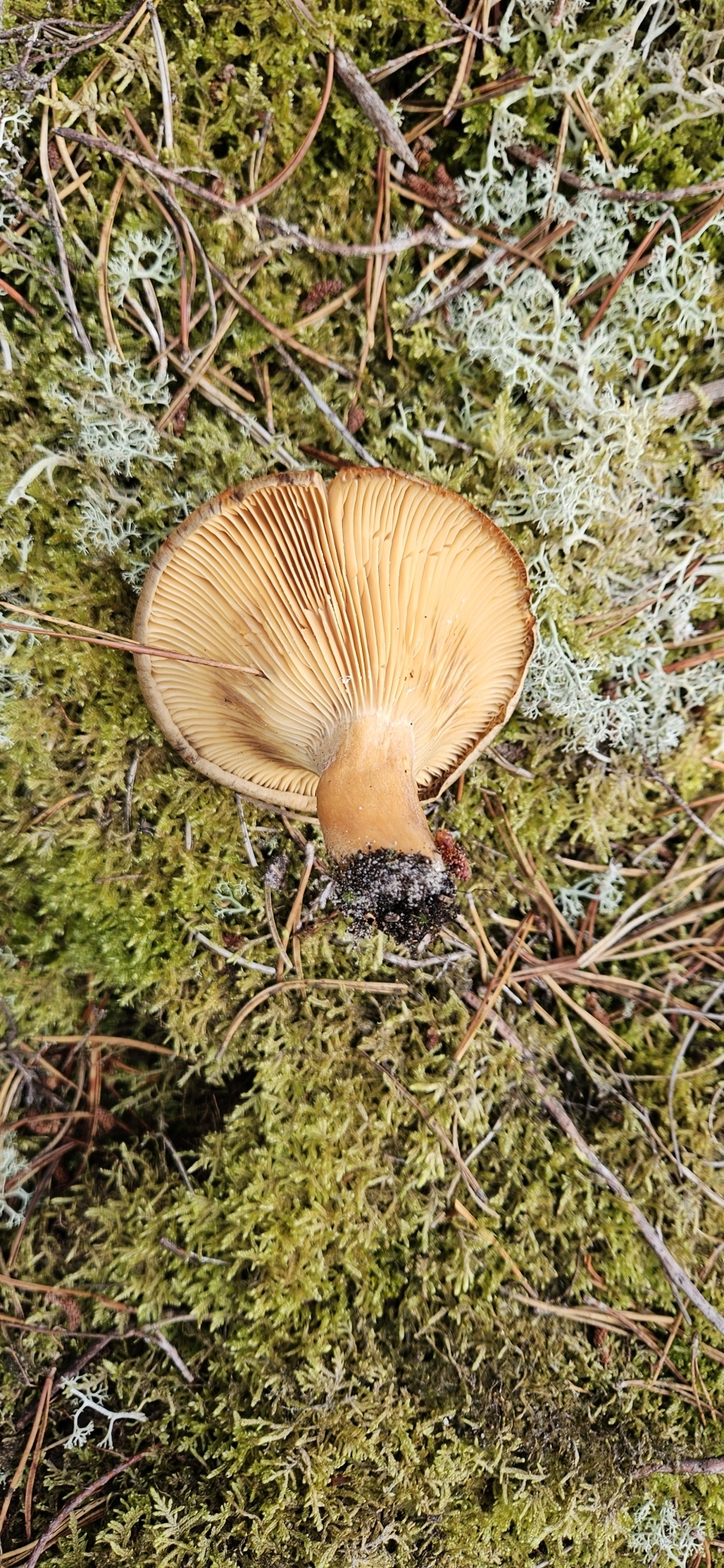Stem: (317, 715, 436, 861)
Underside: (135, 469, 533, 808)
